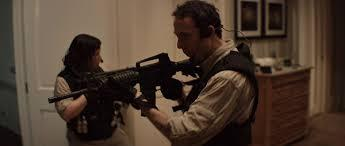rifle: (47, 50, 196, 122)
